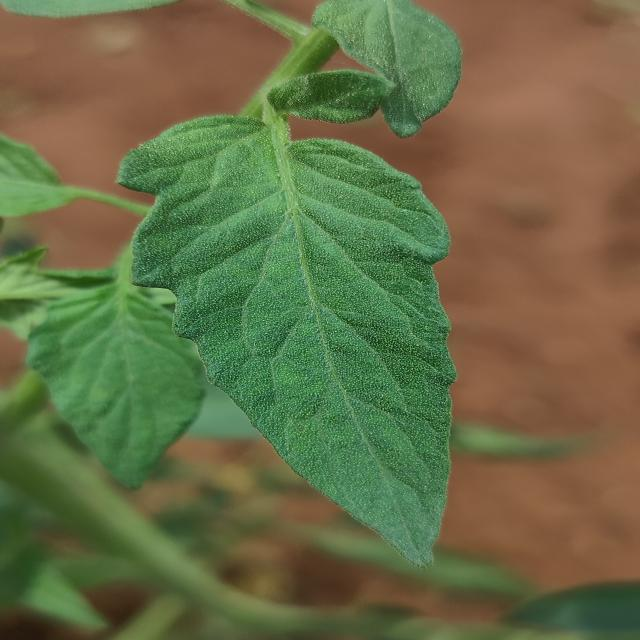tomato_healthy: (117, 108, 455, 566), (3, 271, 240, 498), (311, 0, 461, 137)
